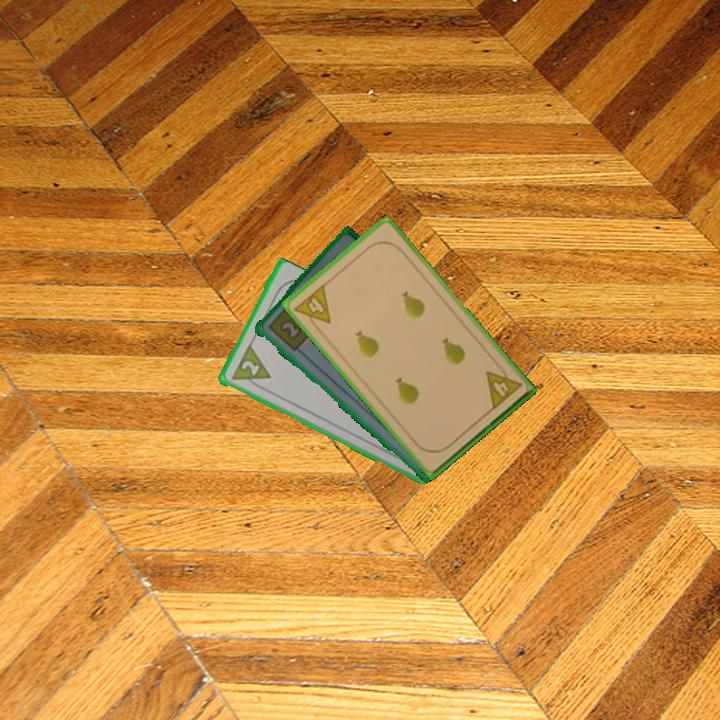2b: (264, 301, 316, 354)
2p: (237, 357, 262, 379)
4p: (290, 281, 334, 334), (482, 360, 525, 413)
